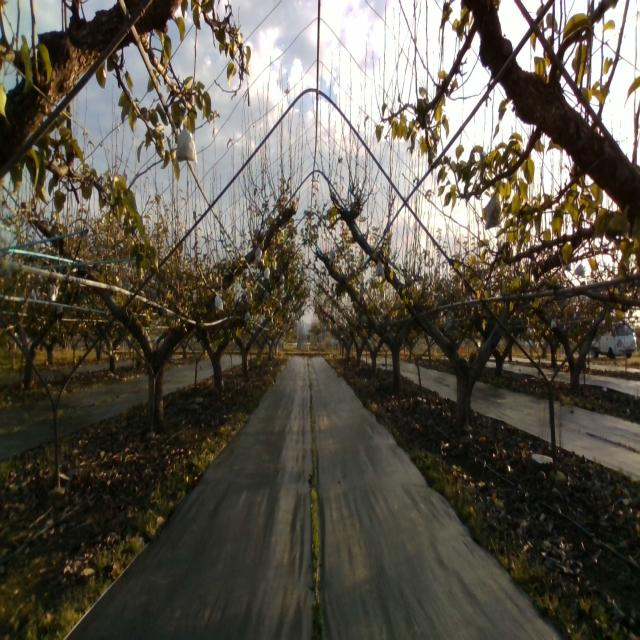pearbags: (174, 120, 198, 165), (484, 185, 503, 231), (375, 259, 385, 280)
